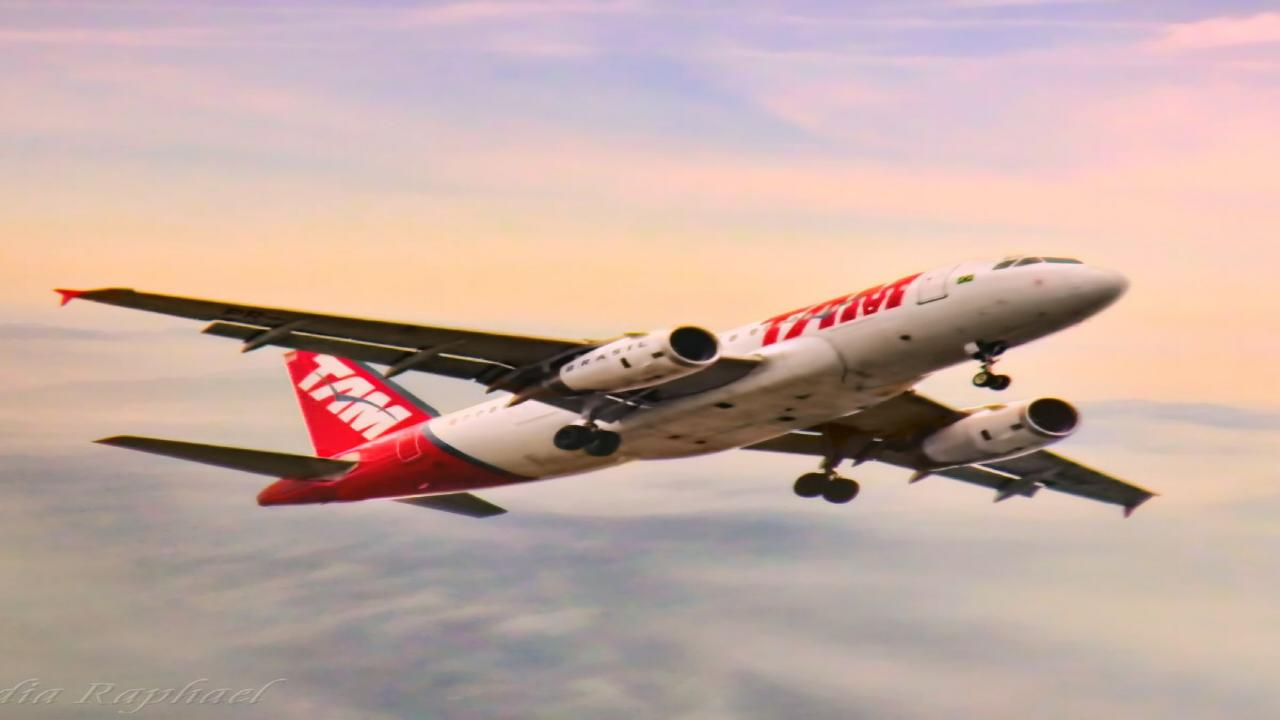Airplane: (36, 238, 1174, 536)
